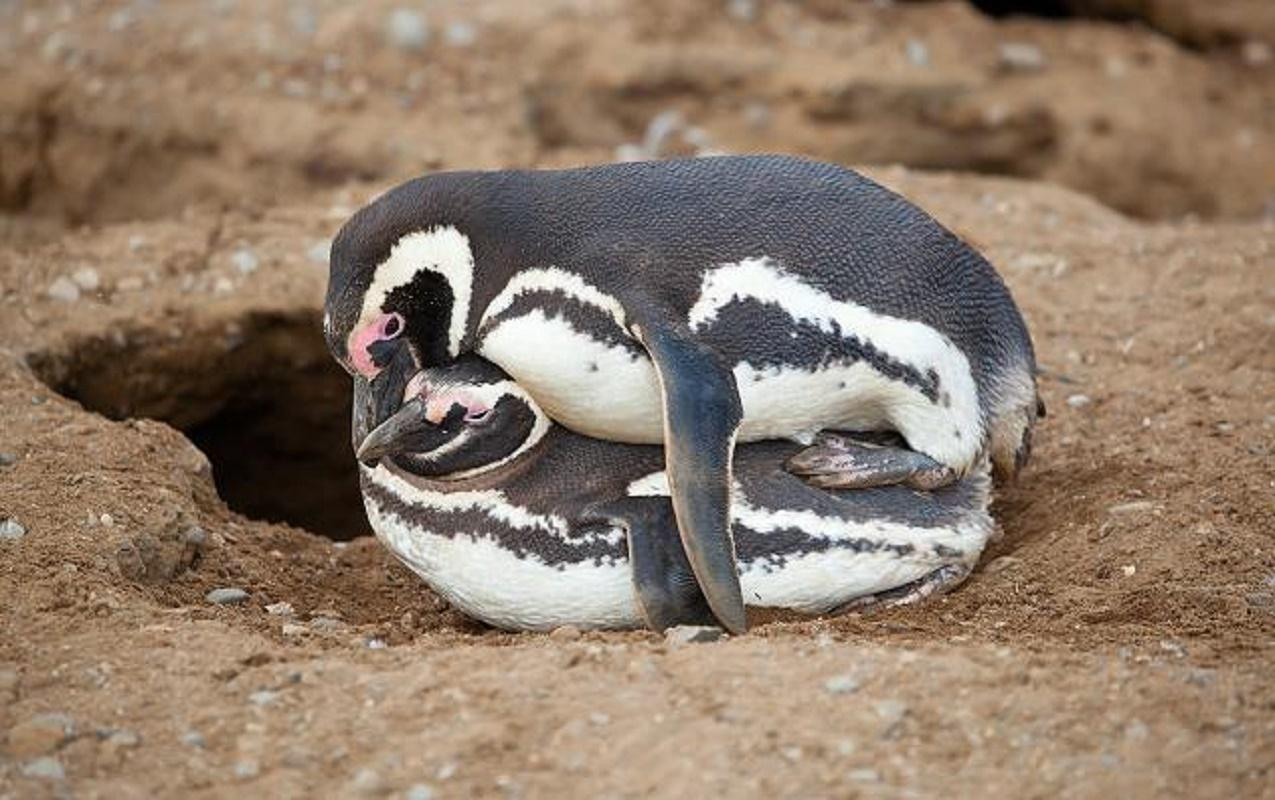Penguin: (326, 157, 1040, 634), (357, 357, 713, 630), (730, 441, 993, 615)
